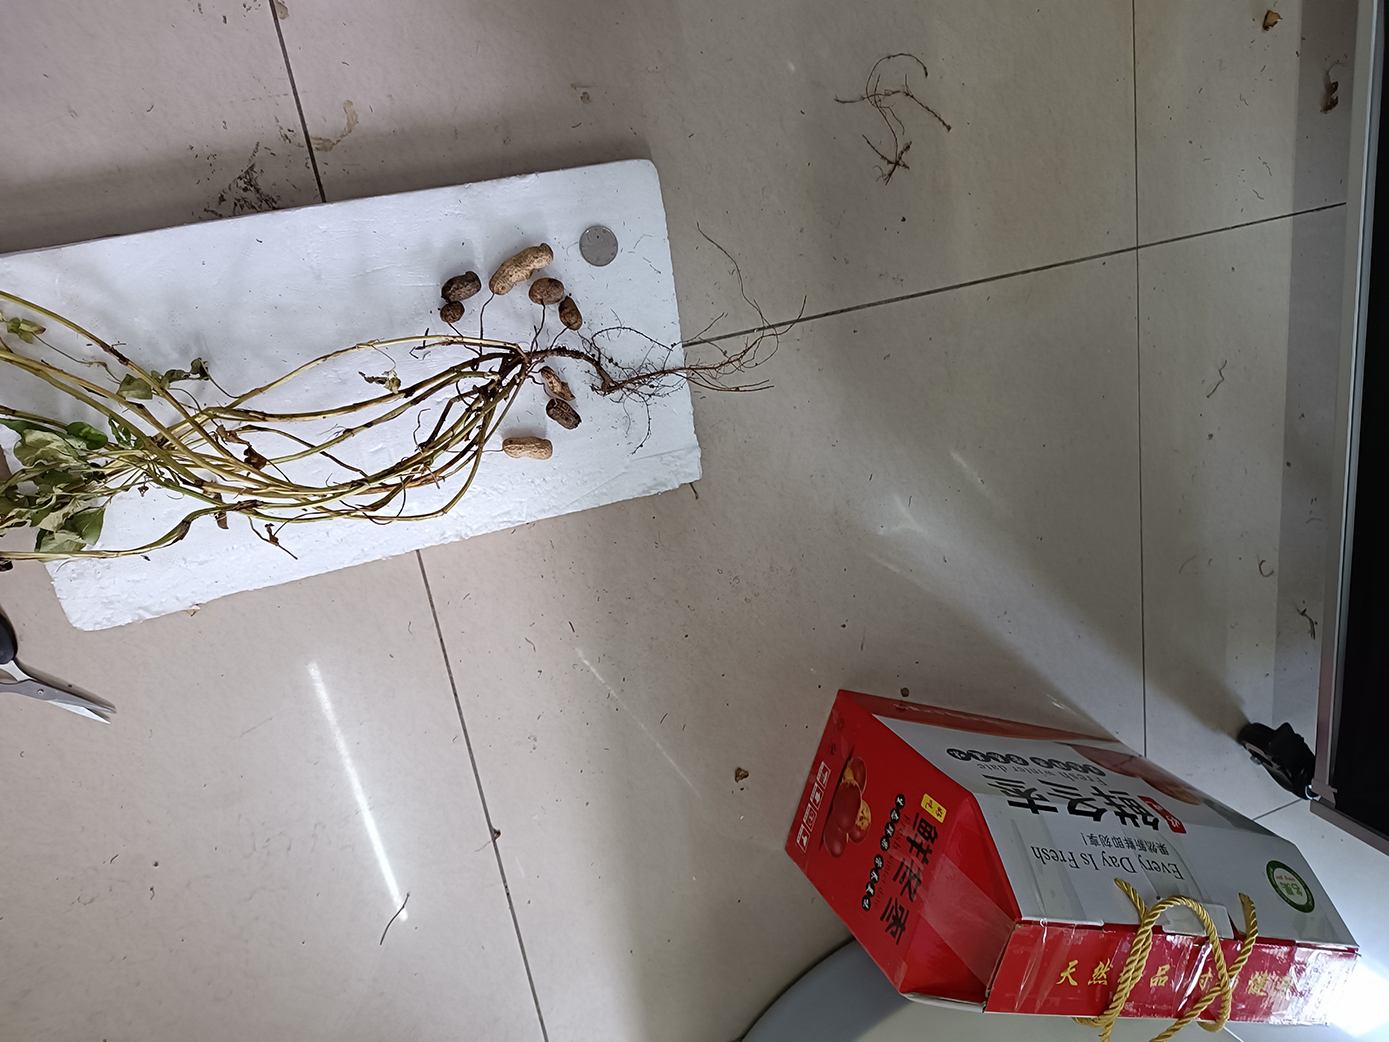h: (488, 242, 554, 296), (500, 435, 552, 462)
l: (539, 363, 576, 402), (440, 271, 482, 301), (546, 400, 583, 429), (528, 277, 566, 304), (559, 297, 584, 329), (440, 301, 465, 323)
